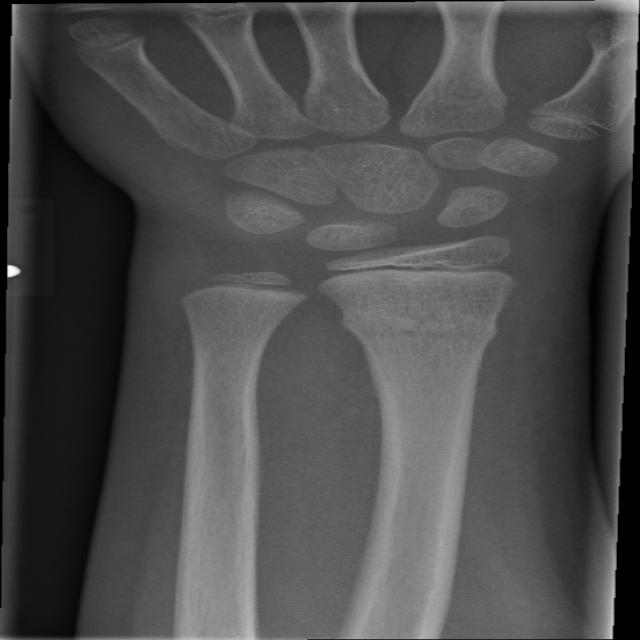radius fracture: (314, 281, 533, 364)
